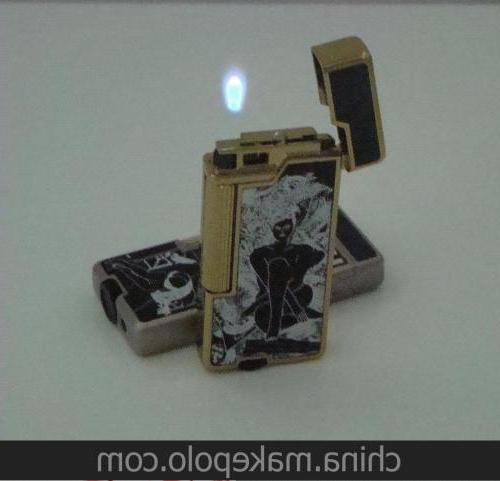fire: (213, 64, 256, 118)
